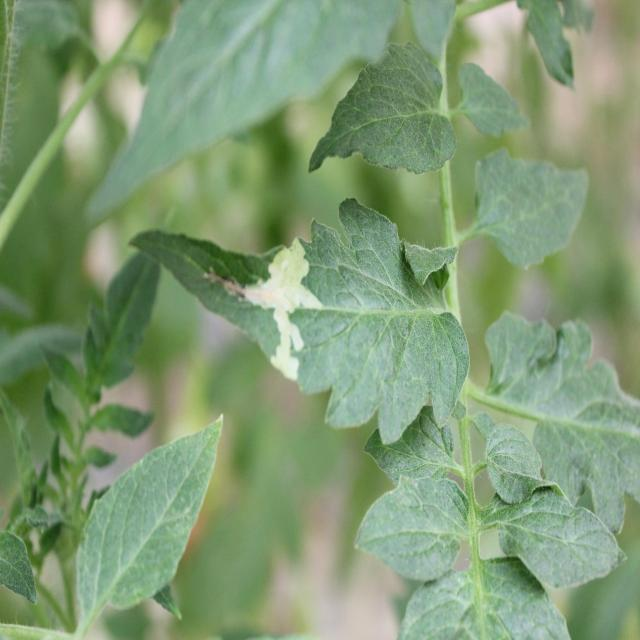Tuta absoluta: (233, 237, 346, 386)
